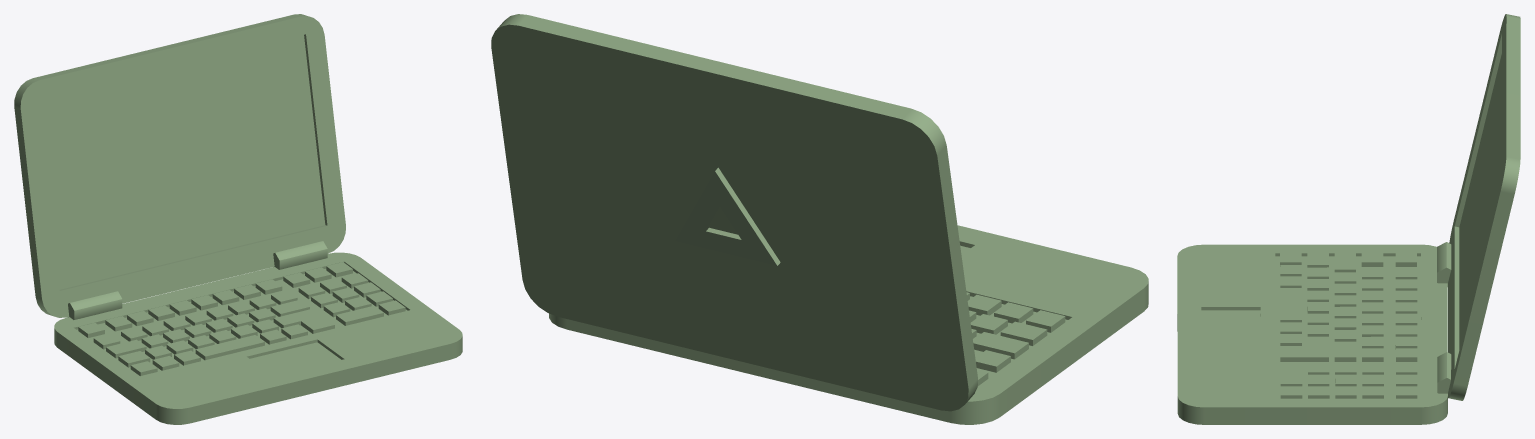
File: Notebook.fbx
3 views of the same model, side by side, from view 1: azimuth 30°, elevation 25°; view 2: azimuth 150°, elevation 25°; view 3: azimuth 270°, elevation 25° (orthographic). The views are drawn at different scales.
Visible parts, largest first — view 1: Notebook_Screen, Notebook_Base; view 2: Notebook_Screen, Notebook_Base; view 3: Notebook_Base, Notebook_Screen.
Boxes of the visible parts, bbox=[...] form: Notebook_Screen: bbox=[14, 14, 345, 317]; Notebook_Base: bbox=[54, 241, 462, 424]; Notebook_Screen: bbox=[491, 14, 977, 411]; Notebook_Base: bbox=[549, 225, 1148, 424]; Notebook_Base: bbox=[1177, 242, 1451, 424]; Notebook_Screen: bbox=[1448, 14, 1520, 400].
Bounding box in the file's own units: 45.89 × 33.71 × 40.83.
